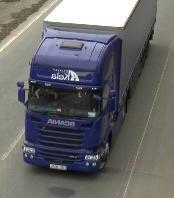Truck: (16, 0, 157, 174)
